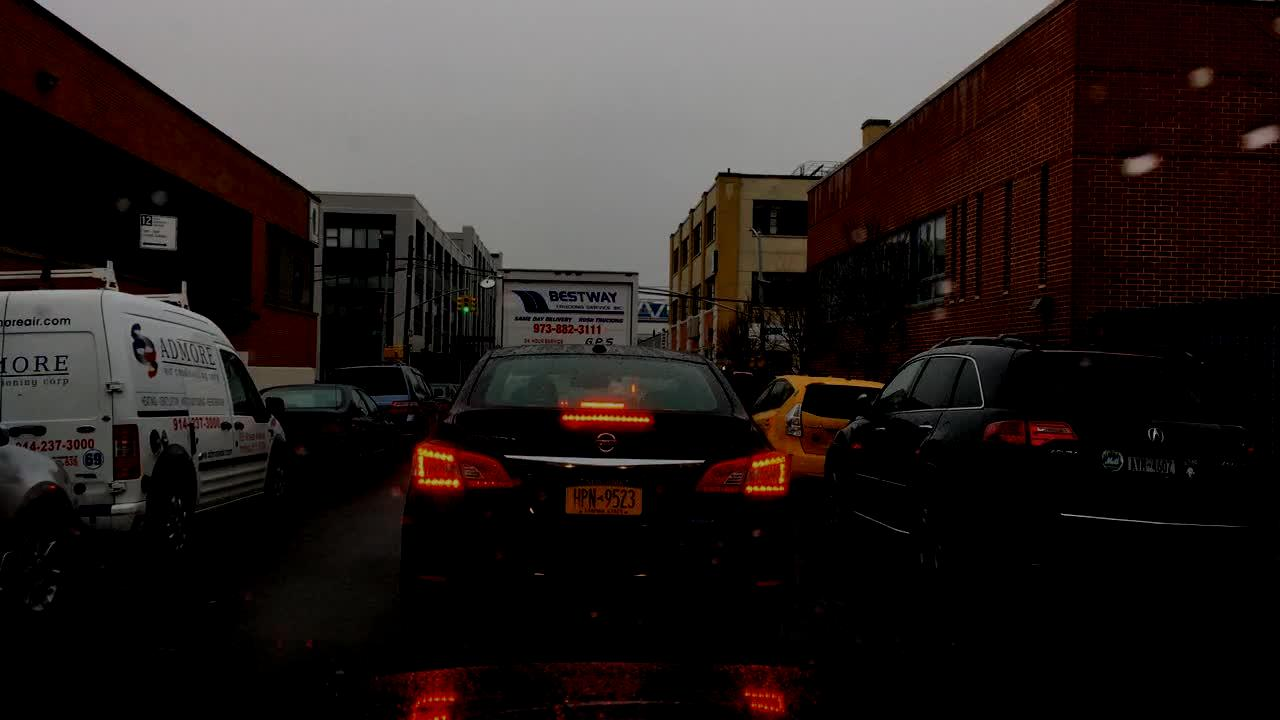Nissan: (590, 428, 622, 457)
acura: (1148, 426, 1168, 445)
